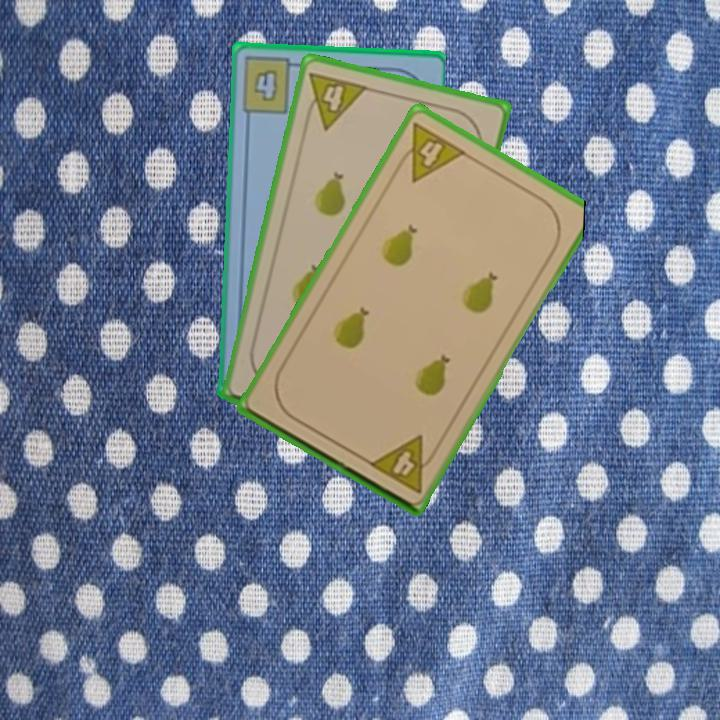4b: (237, 54, 303, 116)
4p: (390, 119, 469, 185), (365, 431, 442, 496), (300, 68, 371, 133)
